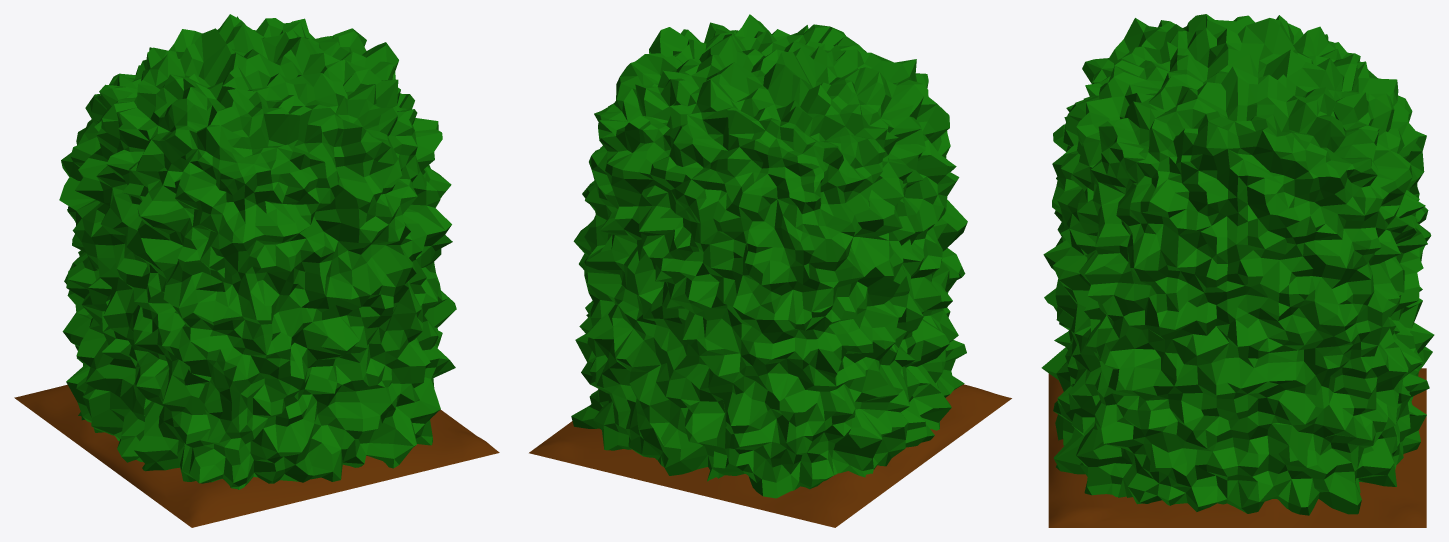
Rendered from boxwood.glb.
3 renders of one model, left to right at view 1: azimuth 30°, elevation 25°; view 2: azimuth 150°, elevation 25°; view 3: azimuth 270°, elevation 25°, orthographic. The views are drawn at different scales.
Parts seen in each view (by area): view 1: 5_nft_summer; view 2: 5_nft_summer; view 3: 5_nft_summer.
Part boxes in pixels (x1,y1,x2,y2): 5_nft_summer: (14, 14, 499, 527); 5_nft_summer: (529, 14, 1011, 527); 5_nft_summer: (1041, 14, 1434, 527).
Size of the model in its own units: 1.43 by 1.7 by 1.46.
